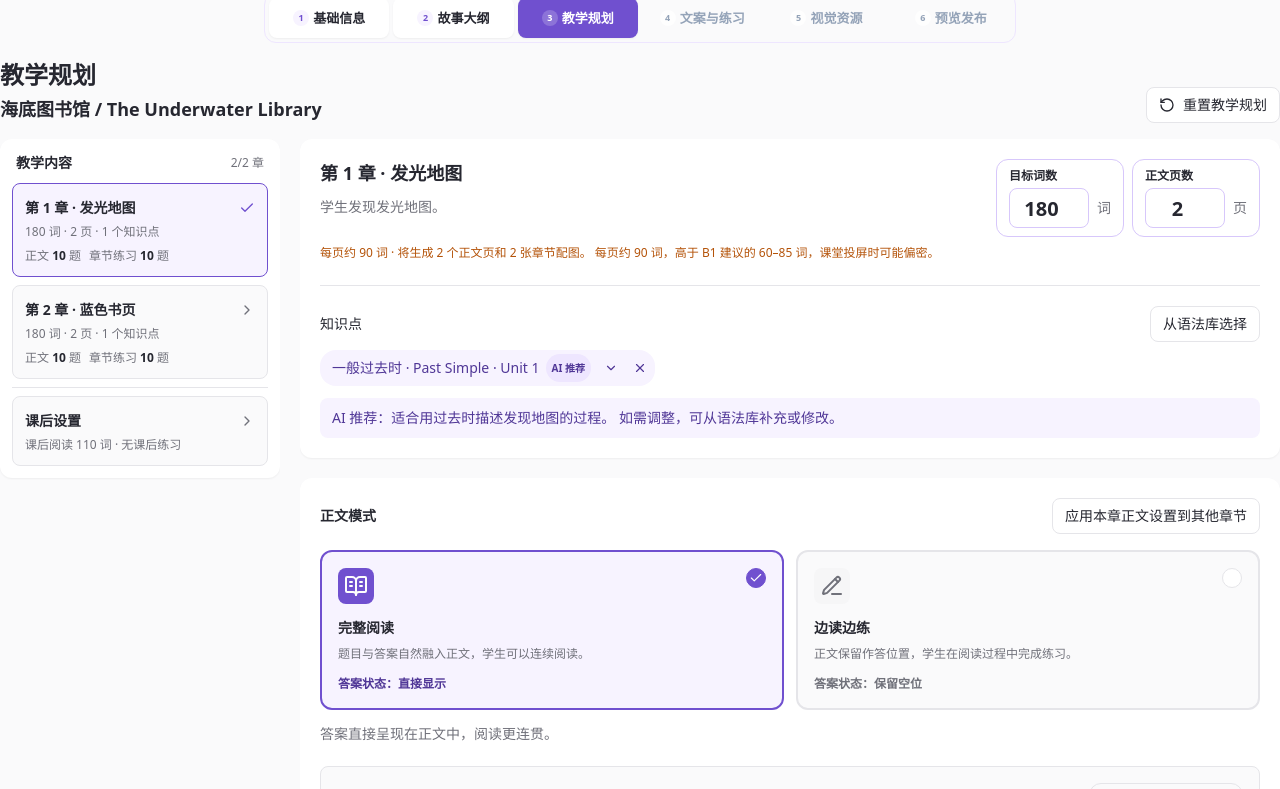
CourseTeachingPlanWorkspace › keeps edits local until the teacher confirms
The image size is (1280, 789).
Replace the text in the number field named "第 1 章目标词数" with "120" at point(1049, 208), box [1009,188,1089,228]
(page scrolled)
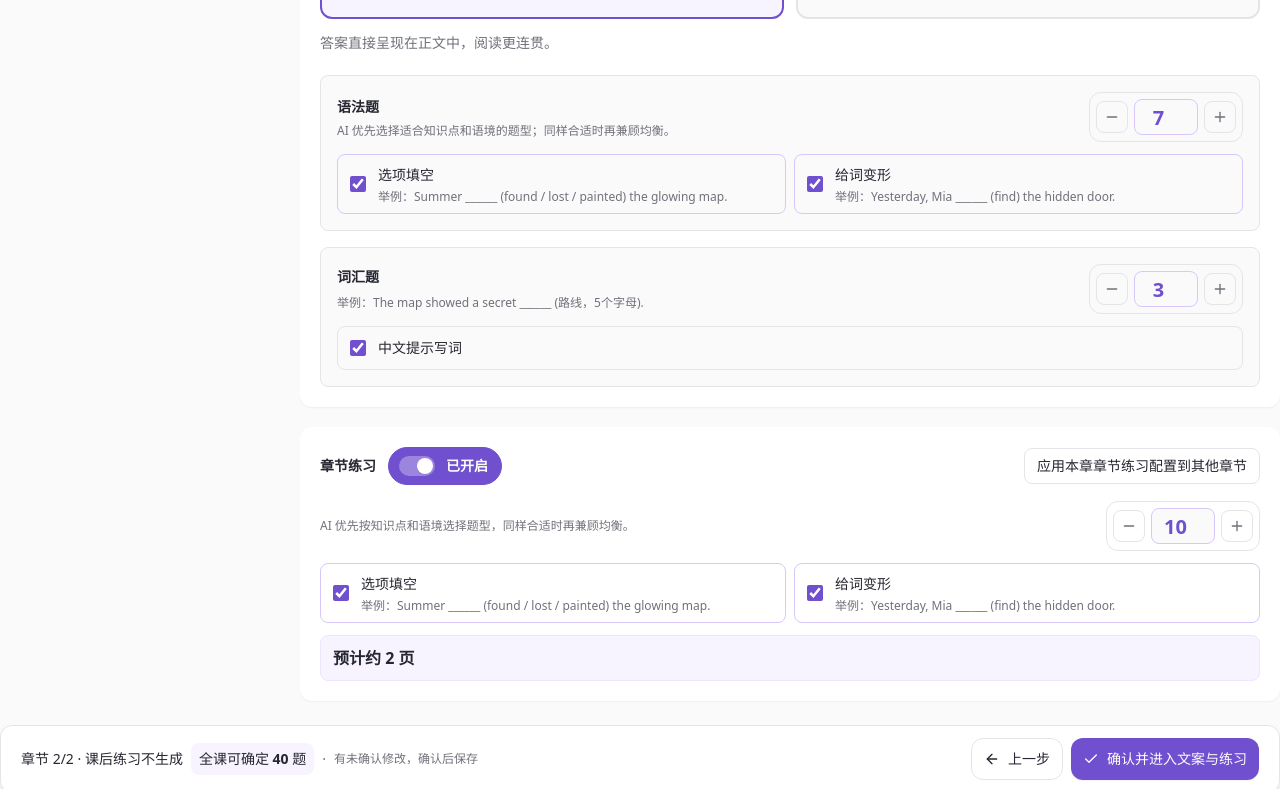
Check: the text "有未确认修改，确认后保存" is shown, box [334,751,478,767]
